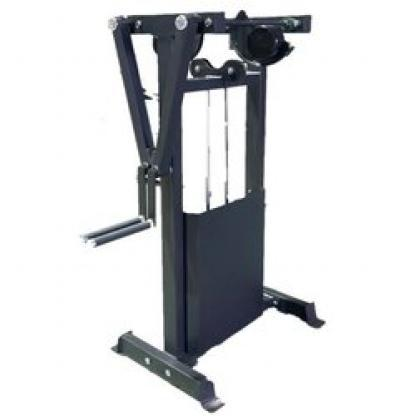lateral raises machine: (79, 10, 327, 408)
